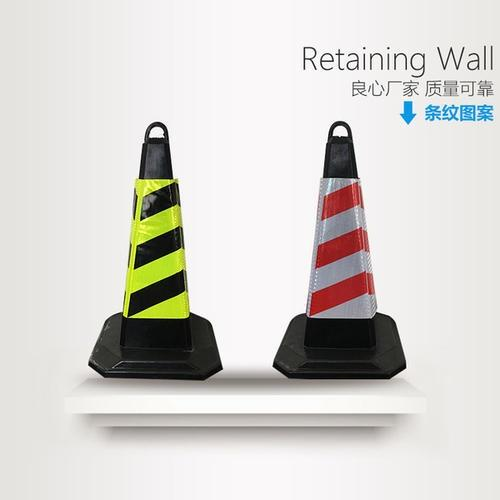cone_barrel: (278, 131, 405, 375), (95, 131, 218, 377)
